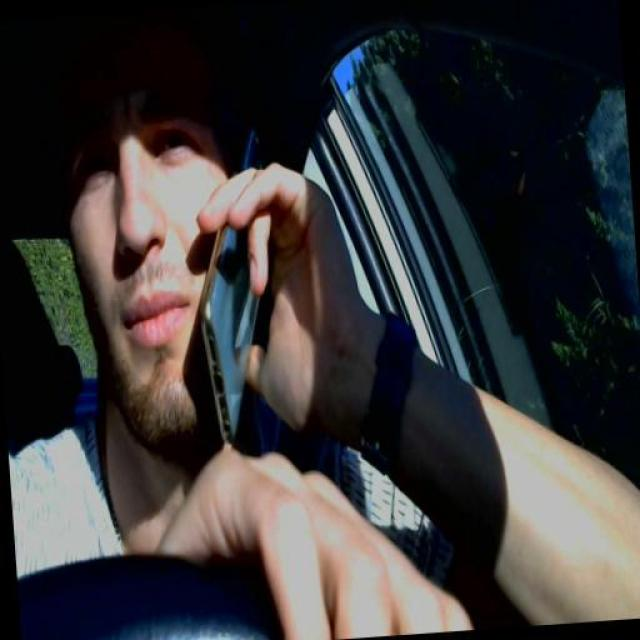phone: (204, 128, 285, 450)
